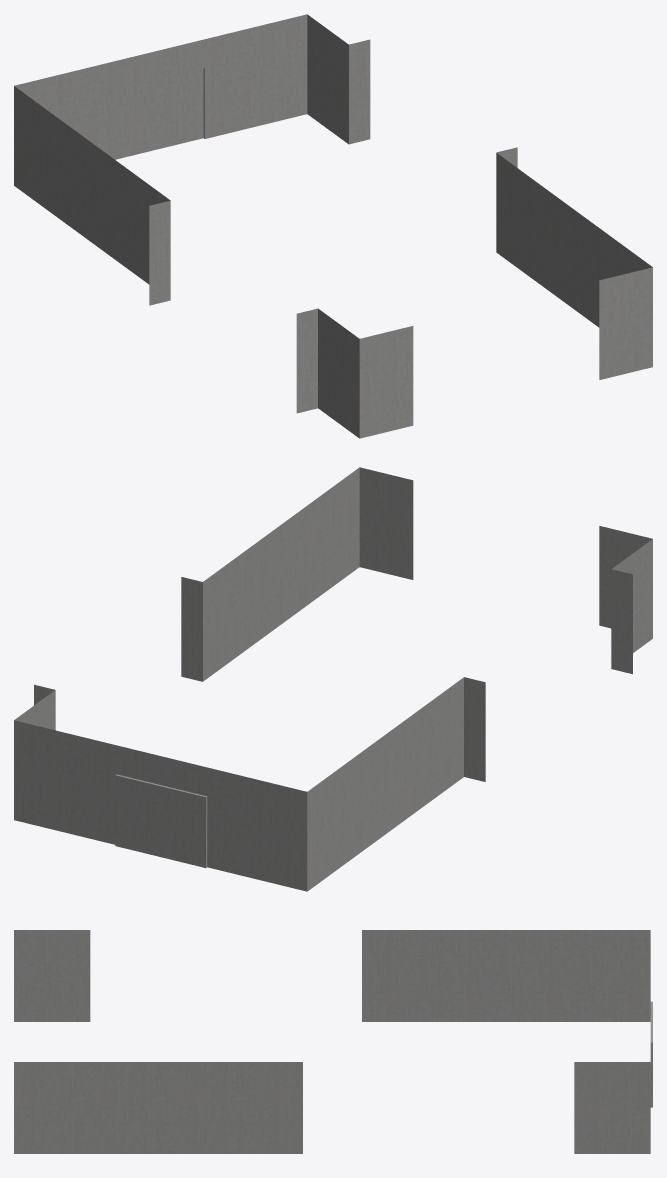
Rendered from Hall_Wall.FBX.
The picture shows the model from 3 angles, top to bottom: view 1: azimuth 30°, elevation 25°; view 2: azimuth 150°, elevation 25°; view 3: azimuth 270°, elevation 25°; orthographic projection. The views are drawn at different scales.
Visible parts, largest first — view 1: Hall_Wall; view 2: Hall_Wall; view 3: Hall_Wall.
Boxes of the visible parts, x1,y1,x2,y2 form: Hall_Wall: [14, 14, 652, 438]; Hall_Wall: [14, 467, 652, 891]; Hall_Wall: [14, 930, 652, 1153].
Bounding box in the file's own units: 15169 × 4304 × 27096.
1 material, 1 textured.
